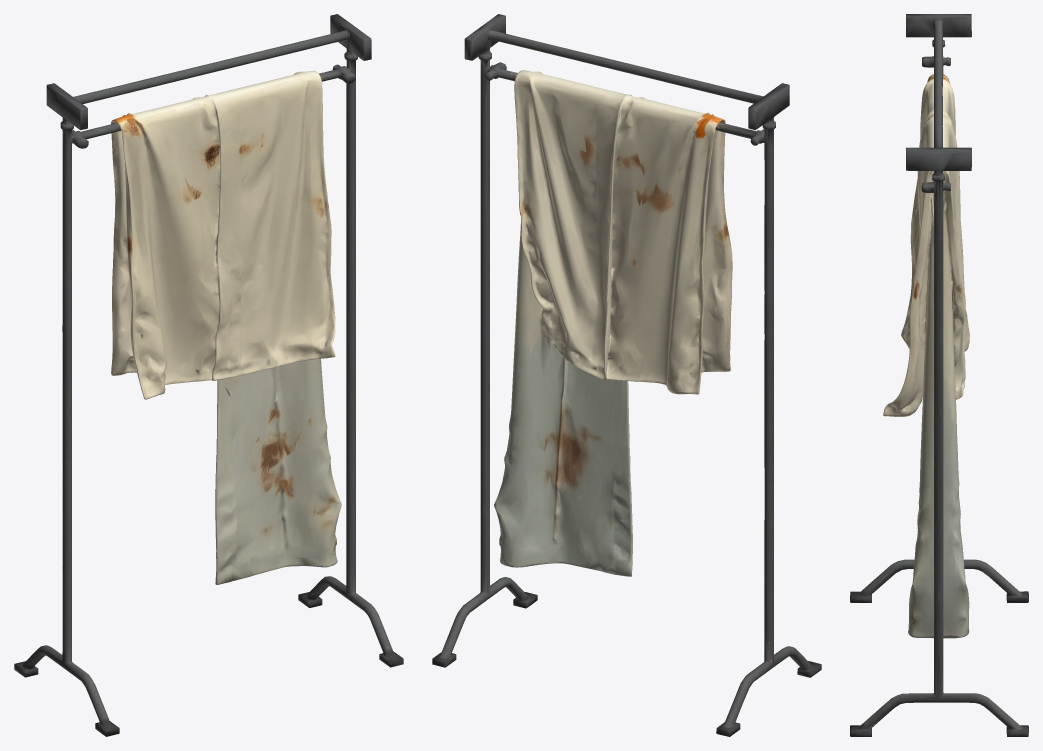
The model's file is CompleteSupportedBloodiedLinenRack_Optimized.glb.
3 renders of one model, left to right at view 1: azimuth 30°, elevation 25°; view 2: azimuth 150°, elevation 25°; view 3: azimuth 270°, elevation 25°, orthographic. The views are drawn at different scales.
Parts seen in each view (by area): view 1: Mesh_0; view 2: Mesh_0; view 3: Mesh_0.
Part boxes in pixels (x1,y1,x2,y2): Mesh_0: [14, 14, 403, 736]; Mesh_0: [432, 14, 821, 736]; Mesh_0: [850, 14, 1028, 736].
Bounding box in the file's own units: 0.9783 × 1.9 × 0.5265.
1 material, 1 textured.
